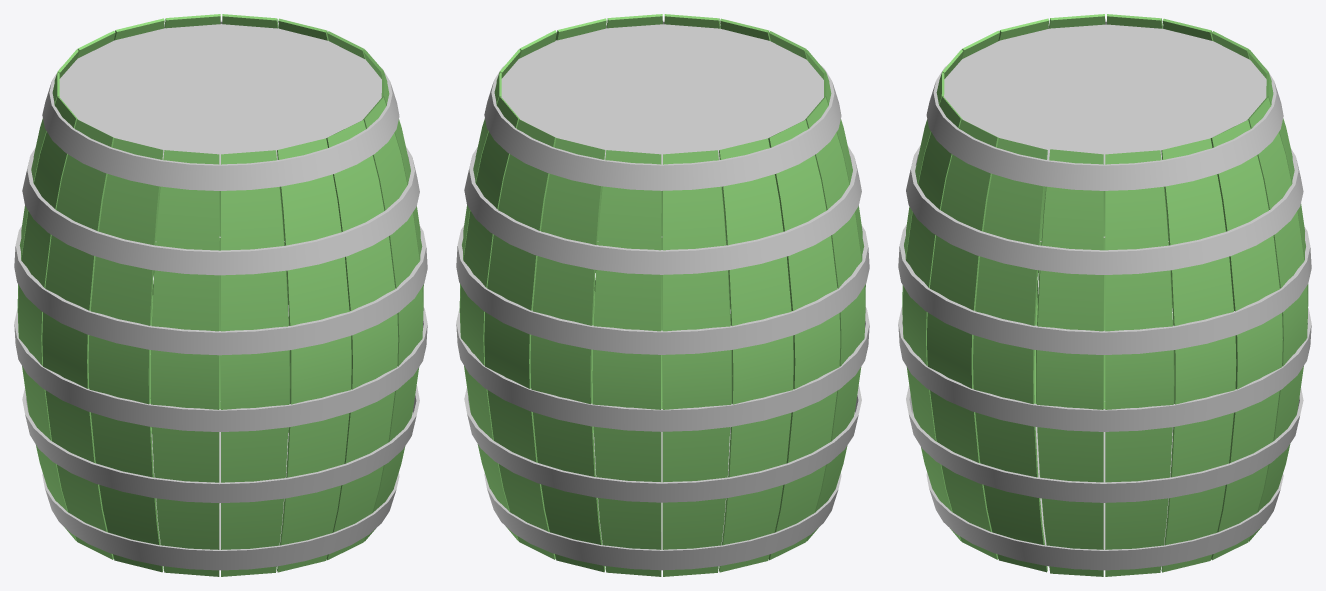
The model's file is Barrel_high.fbx.
3 views of the same model, side by side, from view 1: azimuth 30°, elevation 25°; view 2: azimuth 150°, elevation 25°; view 3: azimuth 270°, elevation 25° (orthographic).
Visible parts, largest first — view 1: Barrel_high; view 2: Barrel_high; view 3: Barrel_high.
Boxes of the visible parts, x1,y1,x2,y2 form: Barrel_high: [14, 14, 427, 576]; Barrel_high: [456, 14, 869, 576]; Barrel_high: [898, 14, 1311, 576].
Size of the model in its own units: 0.9591 by 1.09 by 0.9589.
